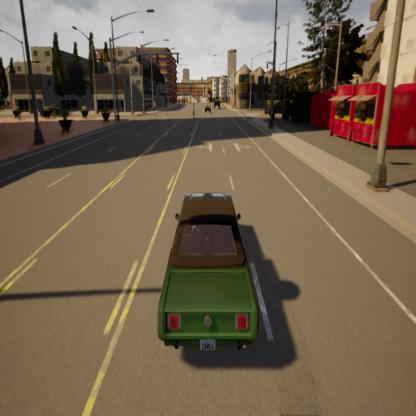Cars: (158, 188, 258, 360), (204, 100, 213, 114)
Pedestrian: (190, 98, 198, 121)
